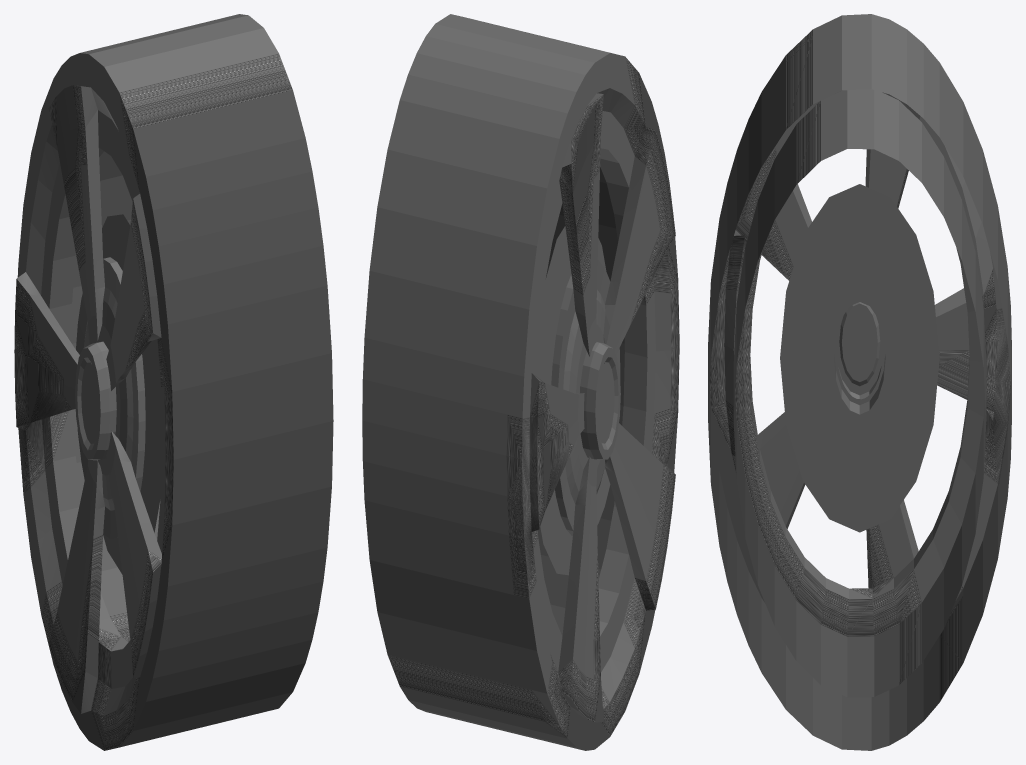
The model's file is rinDer.fbx.
The picture shows the model from 3 angles, left to right: view 1: azimuth 30°, elevation 25°; view 2: azimuth 150°, elevation 25°; view 3: azimuth 270°, elevation 25°; orthographic projection. The views are drawn at different scales.
Visible parts, largest first — view 1: rin.001; view 2: rin.001; view 3: rin.001.
Part boxes in pixels (x1,y1,x2,y2): rin.001: [14, 14, 333, 750]; rin.001: [362, 14, 679, 750]; rin.001: [708, 14, 1011, 750].
Size of the model in its own units: 57.98 by 218 by 90.57.
